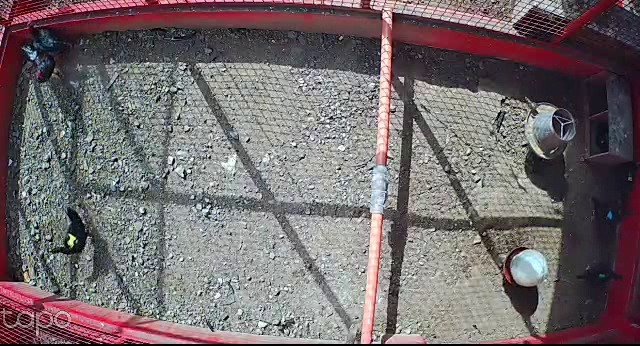Chicken: (49, 208, 97, 256), (24, 20, 77, 56), (575, 258, 628, 290), (588, 196, 635, 232)
Drinker: (501, 246, 551, 288)
Feeder: (523, 98, 578, 162)
Rooster: (16, 43, 65, 85)
Saddle_Color_Blue: (607, 211, 613, 219)
Saddle_Color_Yellow: (67, 232, 78, 246)
